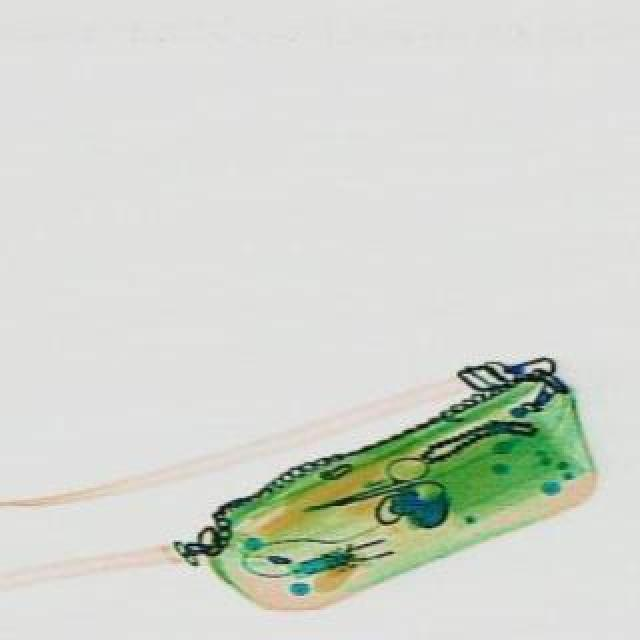pliers: (290, 446, 444, 534)
